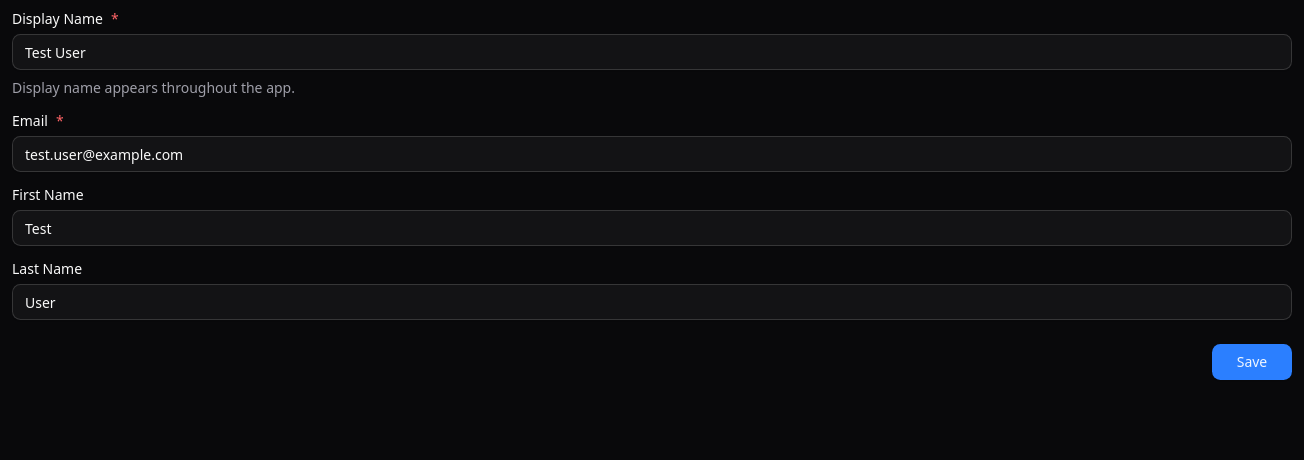
Scenario: AccountForm › shows a generic message when saving fails without details
Replace the text in the field labelled "Display Name" with "Updated" at (652, 52), box top-left (12, 34), bottom-right (1292, 70)
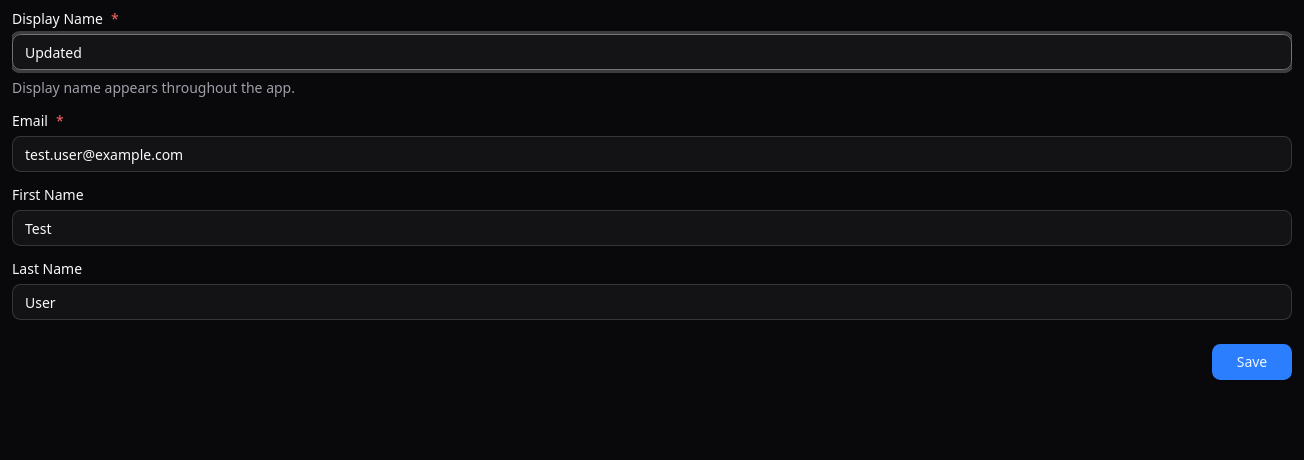
Click the button "Save" at (1252, 362), box top-left (1212, 344), bottom-right (1292, 380)
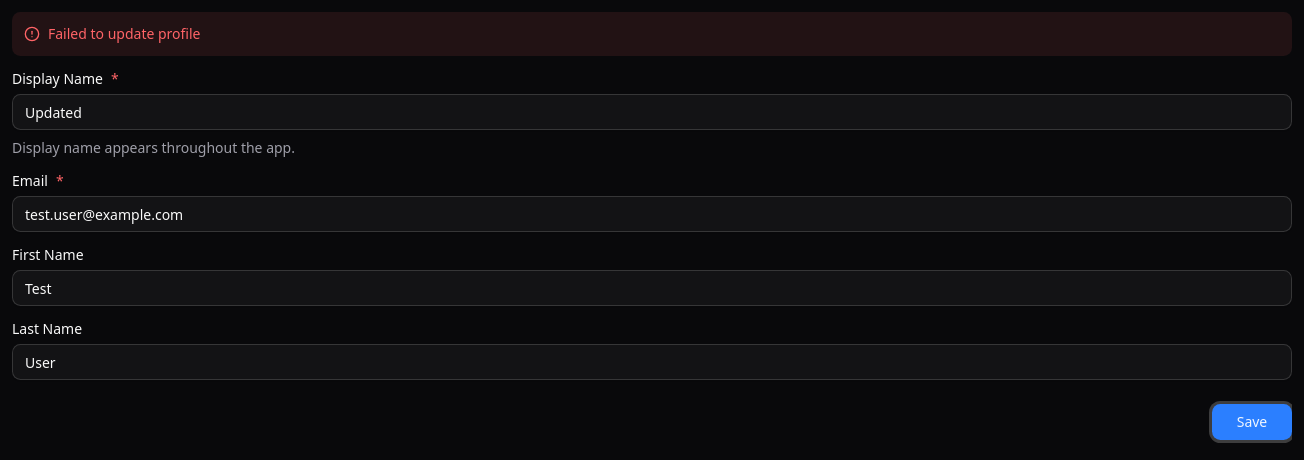
Expected: the message reads "Failed to update profile", top-left (48, 24), bottom-right (200, 43)
